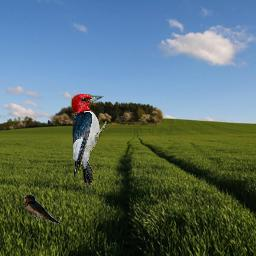Swallow: (23, 194, 62, 225)
Woodpecker: (69, 94, 110, 193)
